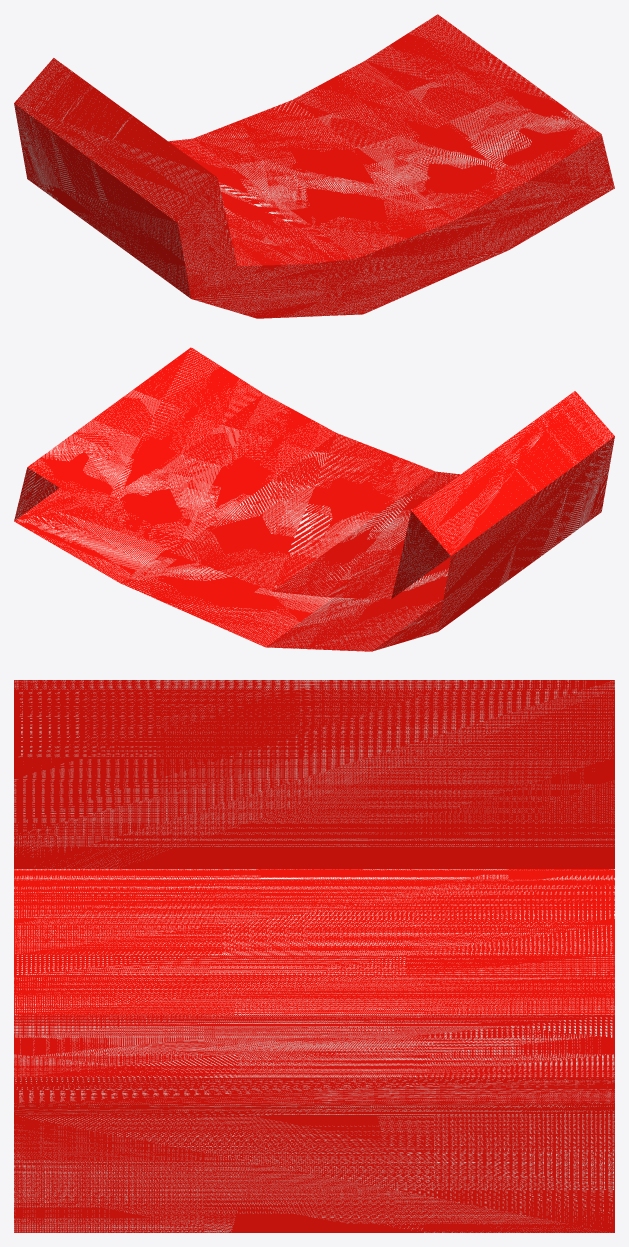
File: Renamedhook_planar_robot.dae
3 renders of one model, top to bottom at view 1: azimuth 30°, elevation 25°; view 2: azimuth 150°, elevation 25°; view 3: azimuth 270°, elevation 25°, orthographic. The views are drawn at different scales.
Parts seen in each view (by area): view 1: SketchUp; view 2: SketchUp; view 3: SketchUp.
Boxes of the visible parts, x1,y1,x2,y2 form: SketchUp: (14,14,614,318); SketchUp: (14,347,614,651); SketchUp: (14,680,614,1232).
Bounding box in the file's own units: 0.1212 × 0.0787 × 0.0457.
